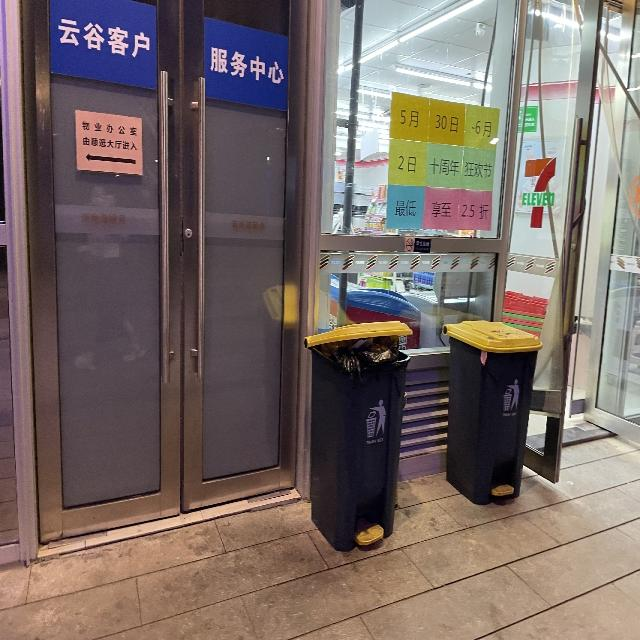garbage_bin: (441, 320, 540, 505)
overflow: (303, 318, 412, 552)
